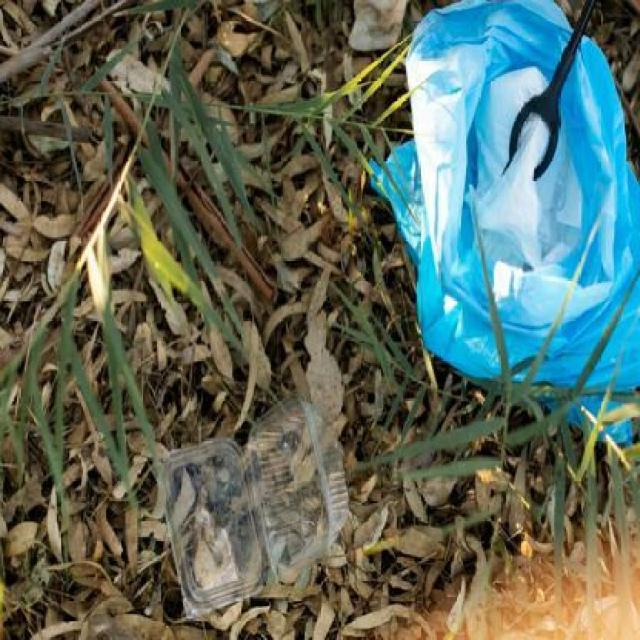plastic bag: (372, 0, 638, 485)
